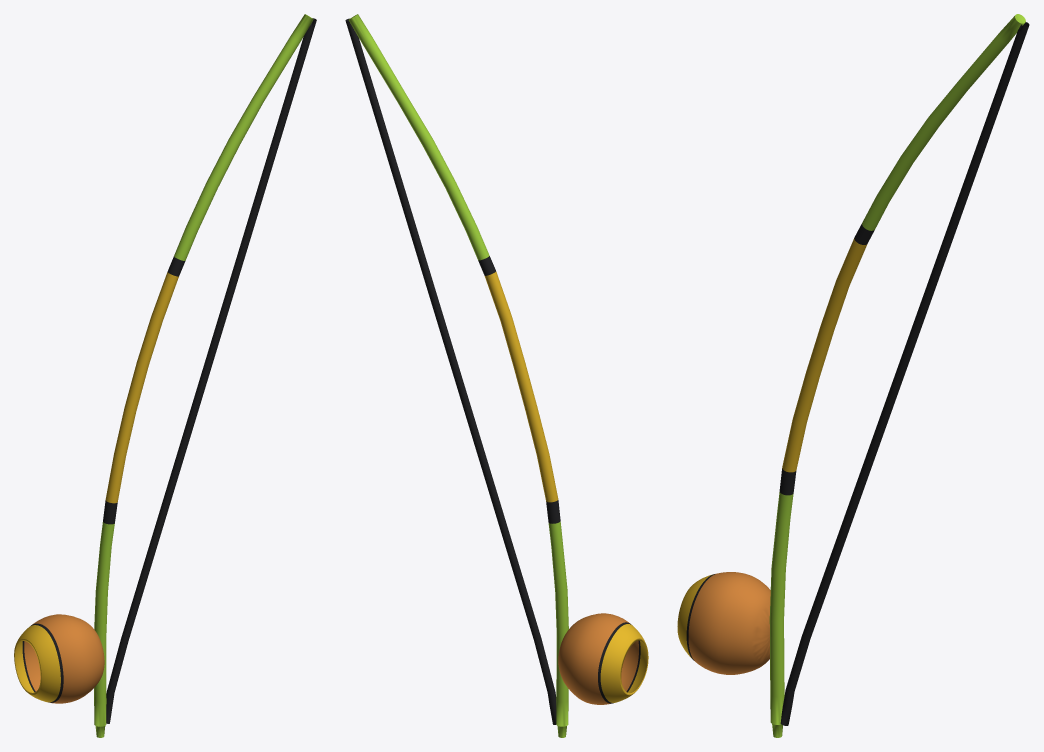
File: Berimbau.fbx
The picture shows the model from 3 angles, left to right: view 1: azimuth 30°, elevation 25°; view 2: azimuth 150°, elevation 25°; view 3: azimuth 330°, elevation 25°; orthographic projection. The views are drawn at different scales.
Parts seen in each view (by area): view 1: Berimbau; view 2: Berimbau; view 3: Berimbau.
Boxes of the visible parts, bbox=[...] form: Berimbau: bbox=[14, 14, 316, 737]; Berimbau: bbox=[345, 14, 648, 737]; Berimbau: bbox=[677, 14, 1029, 737].
Size of the model in its own units: 0.8226 by 1.83 by 0.2218.
